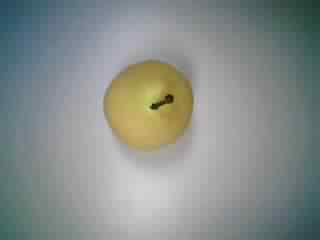pear: (91, 52, 207, 155)
